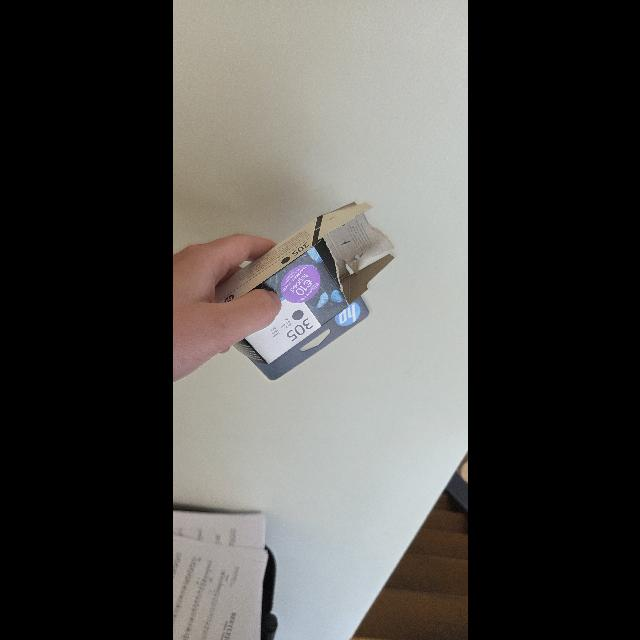Cardboard: (214, 195, 396, 382)
